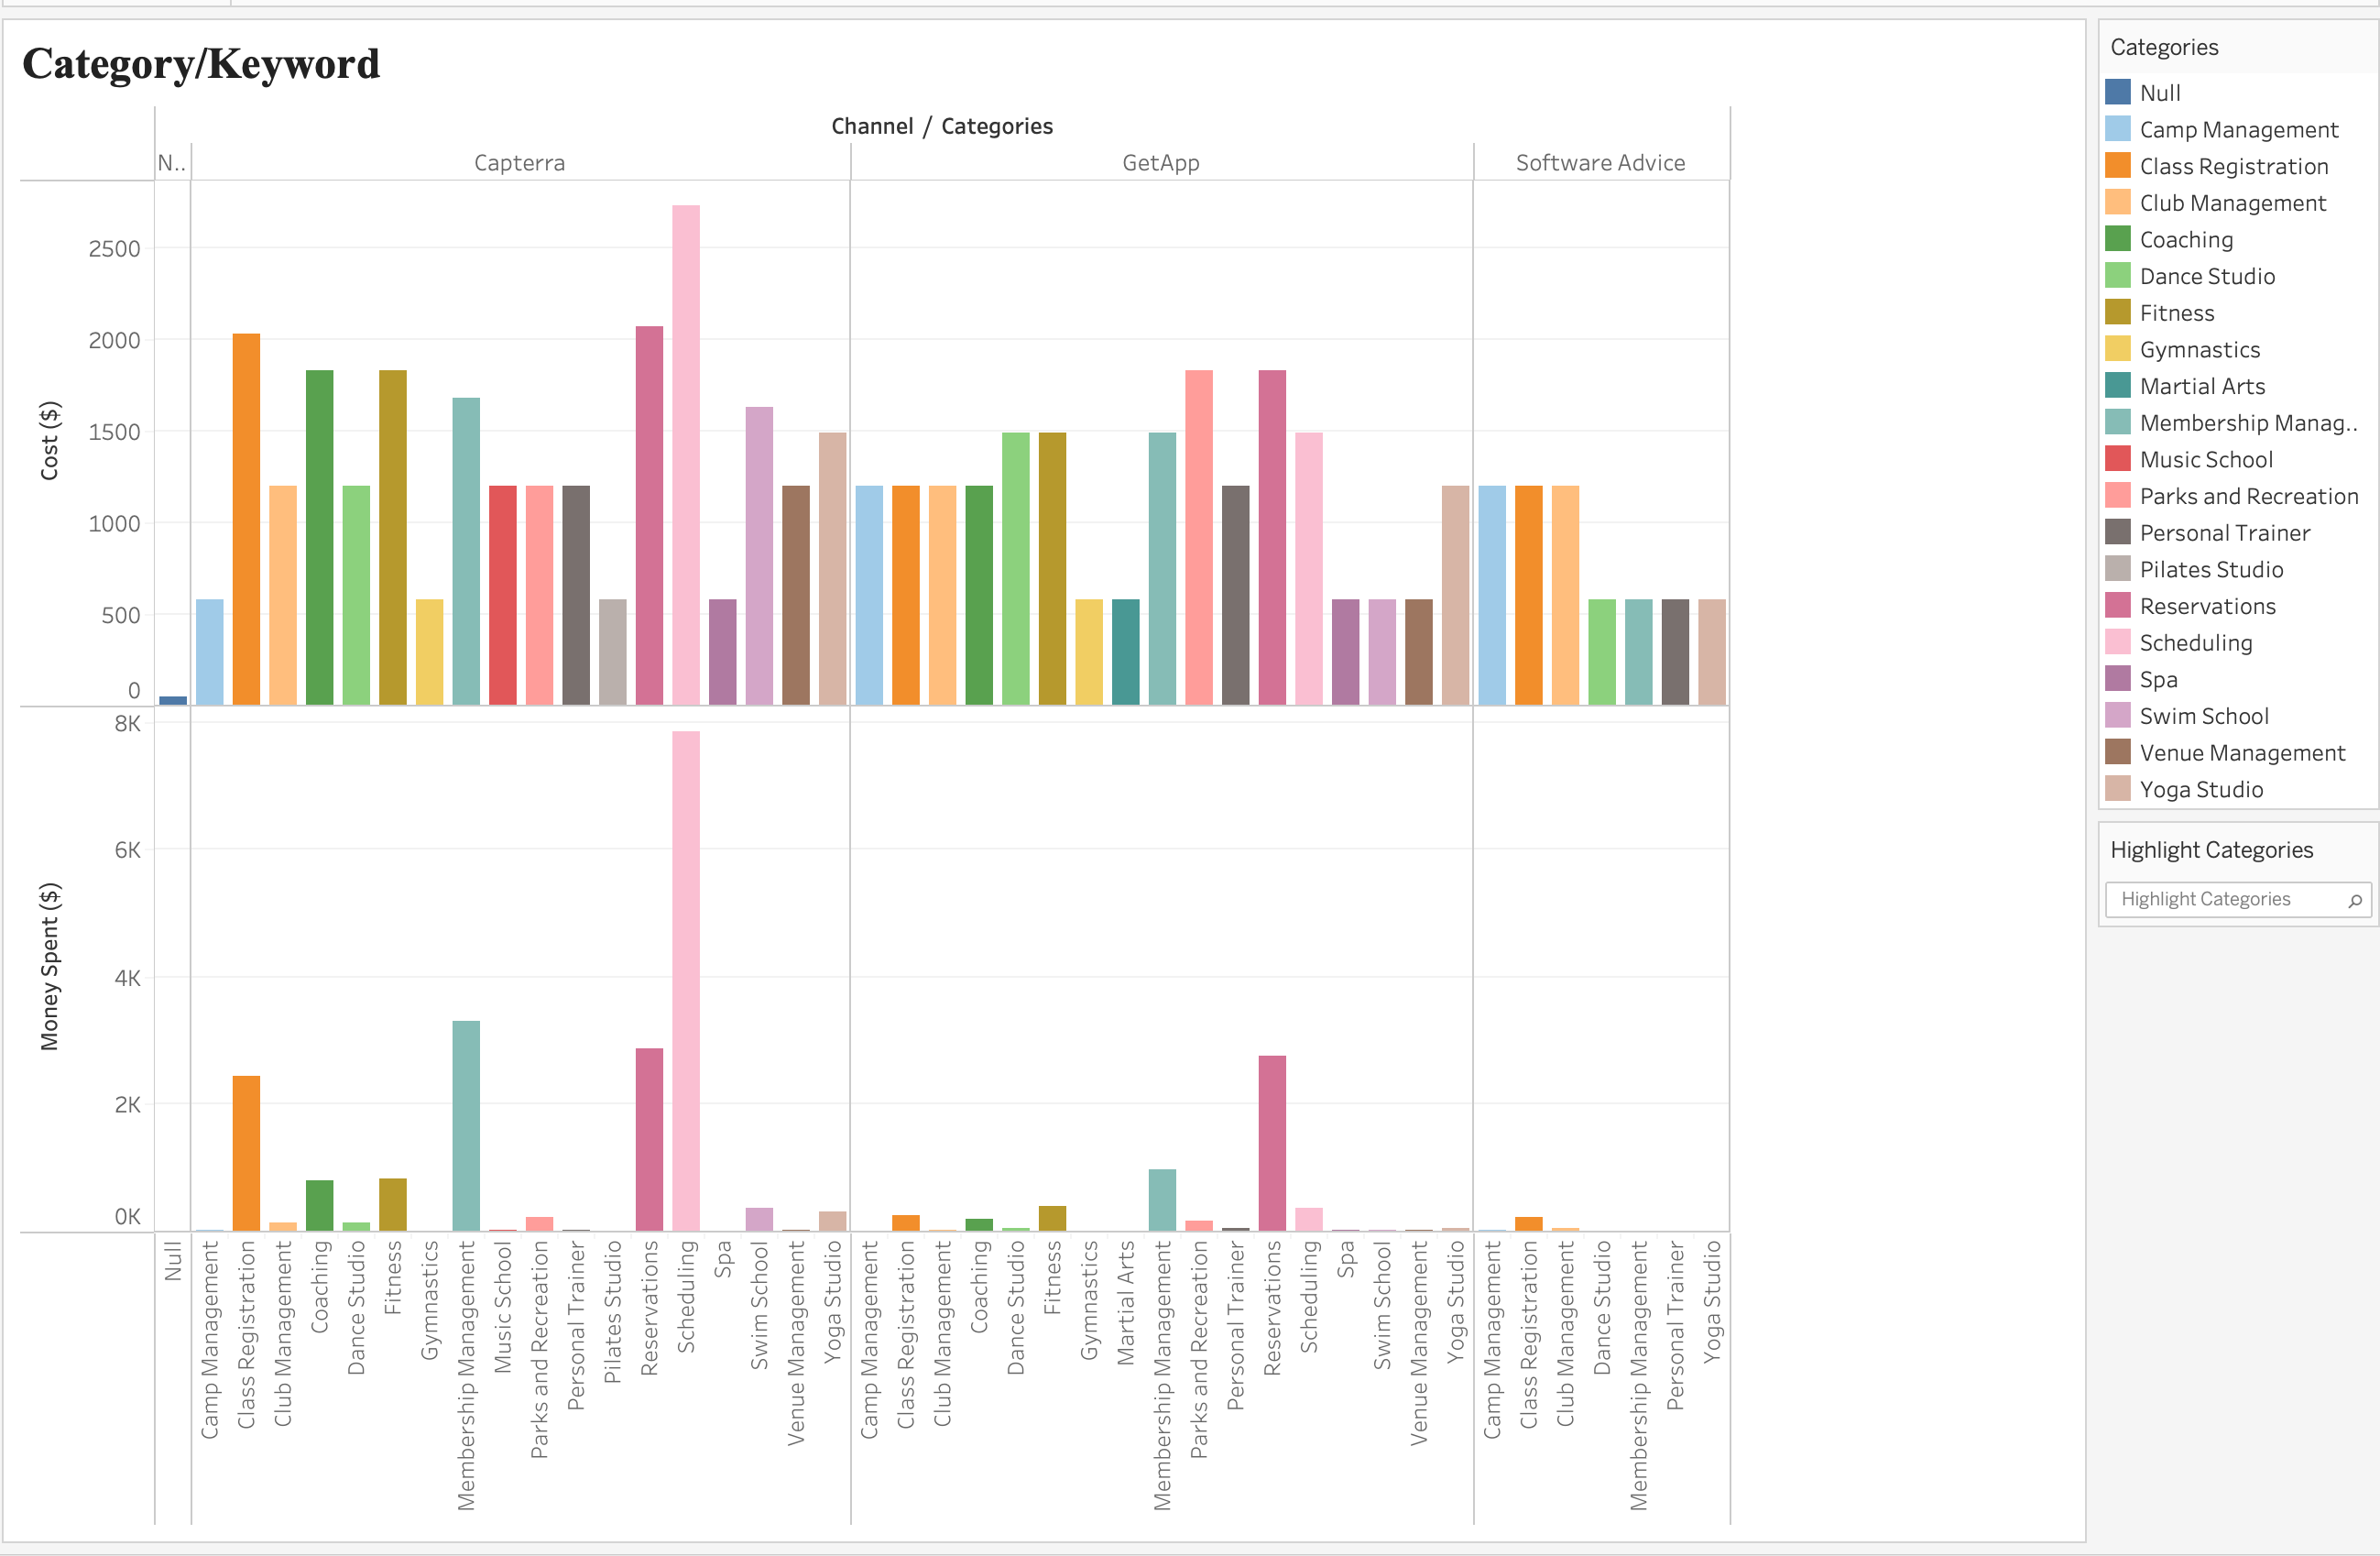

This screenshot's page, from the dashboard's own definition file:
{"tool":"tableau","page":{"name":"Dashboard 1","canvas":[1000,800],"ordinal":0},"visuals":[{"type":"worksheet","title":"Sheet 2 (2)","mark":"Automatic","rows":["Clicks","Cost ($)","Impressions","Payment ($)"],"cols":["Paid Date"],"box":[8,8,412,213]},{"type":"worksheet","title":"Sheet 1","mark":"Bar","rows":["Cost ($)","Impressions","Prospects","Payment ($)"],"cols":["Paid Date","Payment Date"],"box":[420,8,412,330]},{"type":"filter","title":"Sheet 1","param":"[federated.06csk8u094l3ow18qcfn30ir9ek1].[usr:Calculation_1926696266024144896:qk","box":[832,8,160,69]},{"type":"filter","title":"Sheet 1","param":"[federated.06csk8u094l3ow18qcfn30ir9ek1].[usr:Calculation_1926696266024771585:qk","box":[832,77,160,69]},{"type":"legend","title":"Sheet 1","param":"[federated.06csk8u094l3ow18qcfn30ir9ek1].[Multiple Values]","box":[832,146,160,65]},{"type":"highlighter","title":"Sheet 4","param":"[federated.06csk8u094l3ow18qcfn30ir9ek1].[none:Categories:nk]","box":[832,211,160,52]},{"type":"worksheet","title":"Sheet 3","mark":"Automatic","rows":["Cost ($)"],"cols":["Channel"],"box":[8,221,412,179]},{"type":"filter","title":"Sheet 5","param":"[federated.06csk8u094l3ow18qcfn30ir9ek1].[sum:Impressions:qk]","box":[832,263,160,69]},{"type":"filter","title":"Sheet 5","param":"[federated.06csk8u094l3ow18qcfn30ir9ek1].[avg:Cost ($):qk]","box":[832,332,160,69]},{"type":"worksheet","title":"Sheet 4","mark":"Automatic","rows":["Cost ($)","Money Spent ($)"],"cols":["Channel","Categories"],"box":[420,338,412,454]},{"type":"worksheet","title":"Sheet 5","mark":"Automatic","rows":["Channel"],"box":[8,400,412,392]},{"type":"legend","title":"Sheet 5","param":"[federated.06csk8u094l3ow18qcfn30ir9ek1].[sum:Payment ($):qk]","box":[832,401,160,65]},{"type":"filter","title":"Sheet 3","param":"[federated.06csk8u094l3ow18qcfn30ir9ek1].[none:Keyword type:nk]","box":[832,466,160,108]},{"type":"legend","title":"Sheet 3","param":"[federated.06csk8u094l3ow18qcfn30ir9ek1].[none:Keyword type:nk]","box":[832,574,160,86]}]}

Visuals, with their boxes on the page's 1000x800 design canvas (x1, y1, x2, y2). These are canvas units, not pixel positions in the 2380x1556 screenshot, which may show the page scaled, cropped or inside an application window:
"Sheet 2 (2)" worksheet: (8,8,420,221)
"Sheet 1" worksheet (Bar marks): (420,8,832,338)
"Sheet 1" filter: (832,8,992,77)
"Sheet 1" filter: (832,77,992,146)
"Sheet 1" legend: (832,146,992,211)
"Sheet 4" highlighter: (832,211,992,263)
"Sheet 3" worksheet: (8,221,420,400)
"Sheet 5" filter: (832,263,992,332)
"Sheet 5" filter: (832,332,992,401)
"Sheet 4" worksheet: (420,338,832,792)
"Sheet 5" worksheet: (8,400,420,792)
"Sheet 5" legend: (832,401,992,466)
"Sheet 3" filter: (832,466,992,574)
"Sheet 3" legend: (832,574,992,660)
